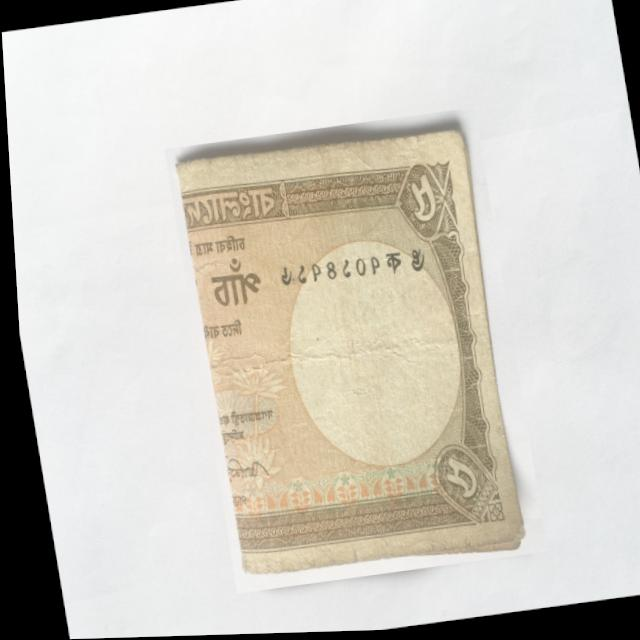Taka: (160, 108, 541, 595)
